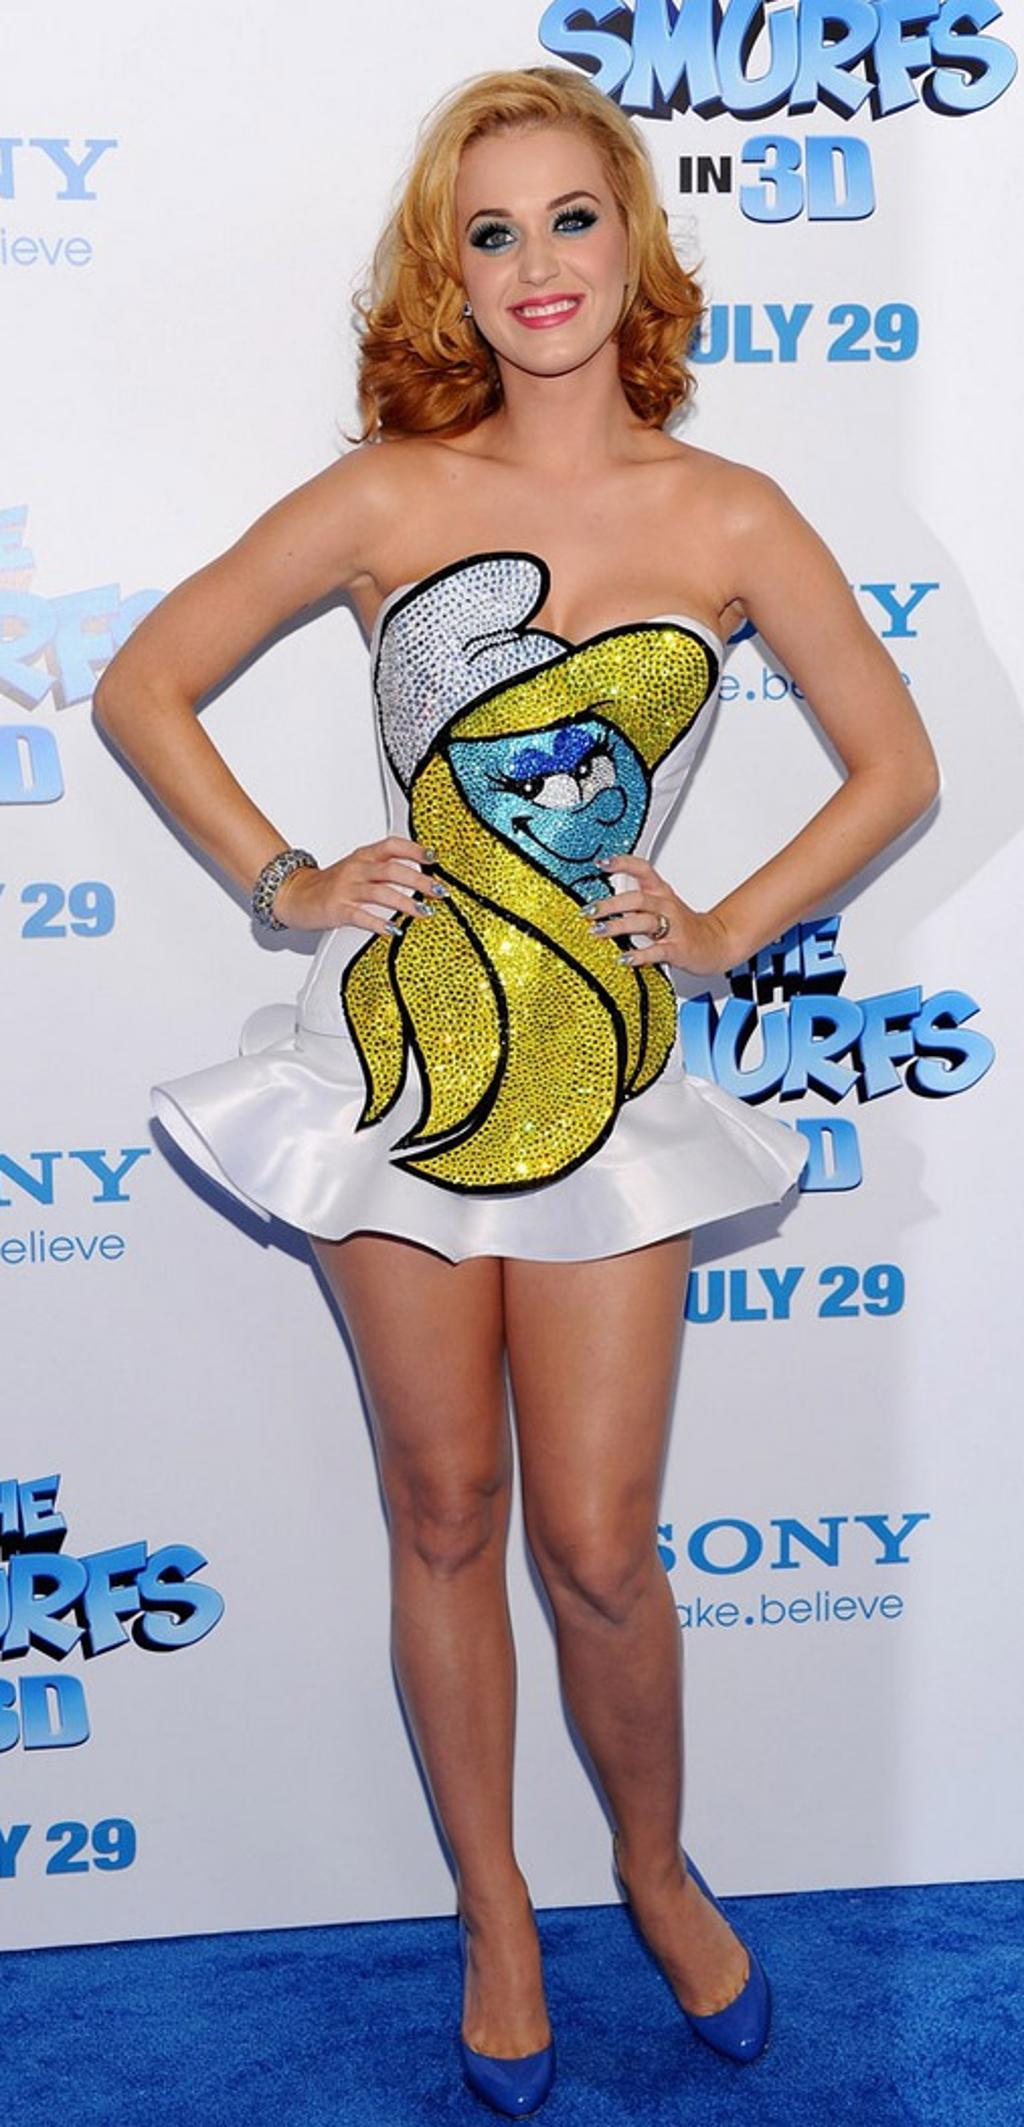face: (456, 116, 634, 373)
